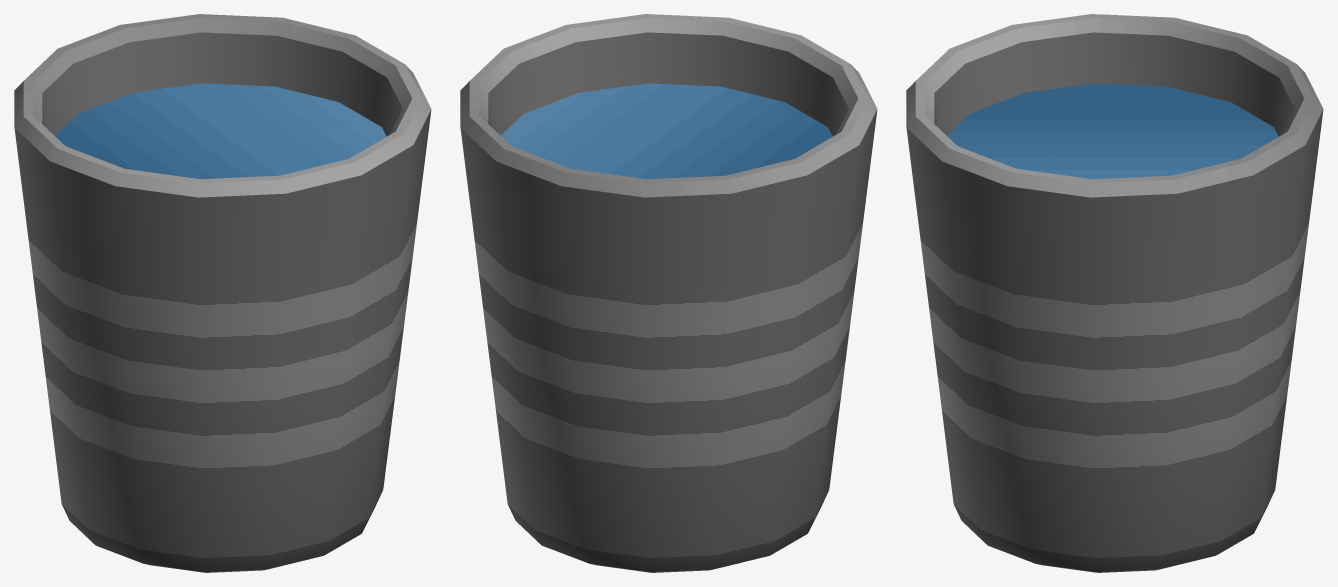
File: Bucket.fbx
3 views of the same model, side by side, from view 1: azimuth 30°, elevation 25°; view 2: azimuth 150°, elevation 25°; view 3: azimuth 270°, elevation 25° (orthographic).
Visible parts, largest first — view 1: Bucket, Bucket.001; view 2: Bucket, Bucket.001; view 3: Bucket, Bucket.001.
Part boxes in pixels (x1,y1,x2,y2): Bucket: (14,14,431,572); Bucket.001: (55,83,386,179); Bucket: (460,14,877,572); Bucket.001: (501,83,832,179); Bucket: (906,14,1323,572); Bucket.001: (947,83,1278,179).
Size of the model in its own units: 80.45 by 88 by 80.01.
